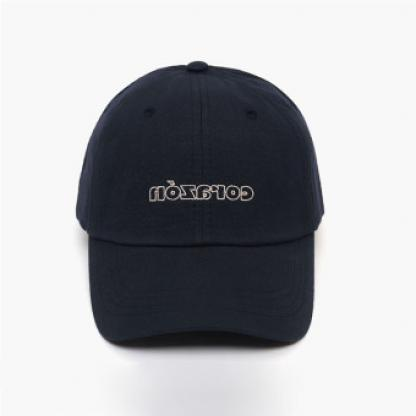cap: (67, 53, 336, 352)
